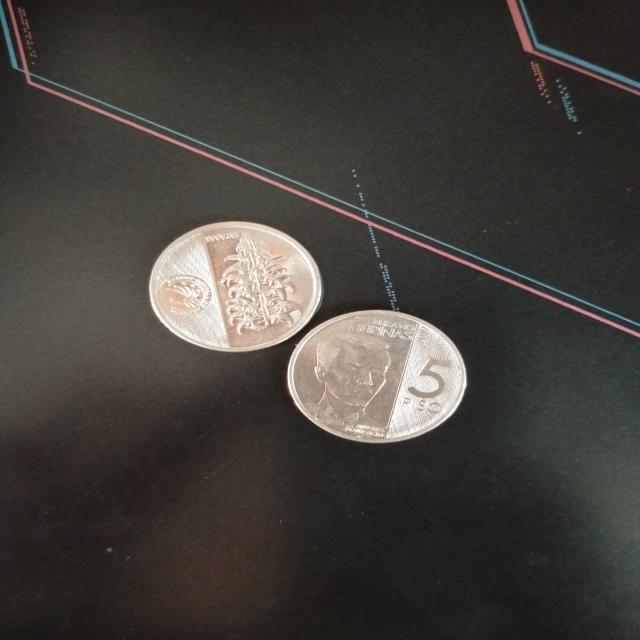5_New_Back: (218, 227, 316, 335)
5_New_Front: (387, 352, 451, 415)
